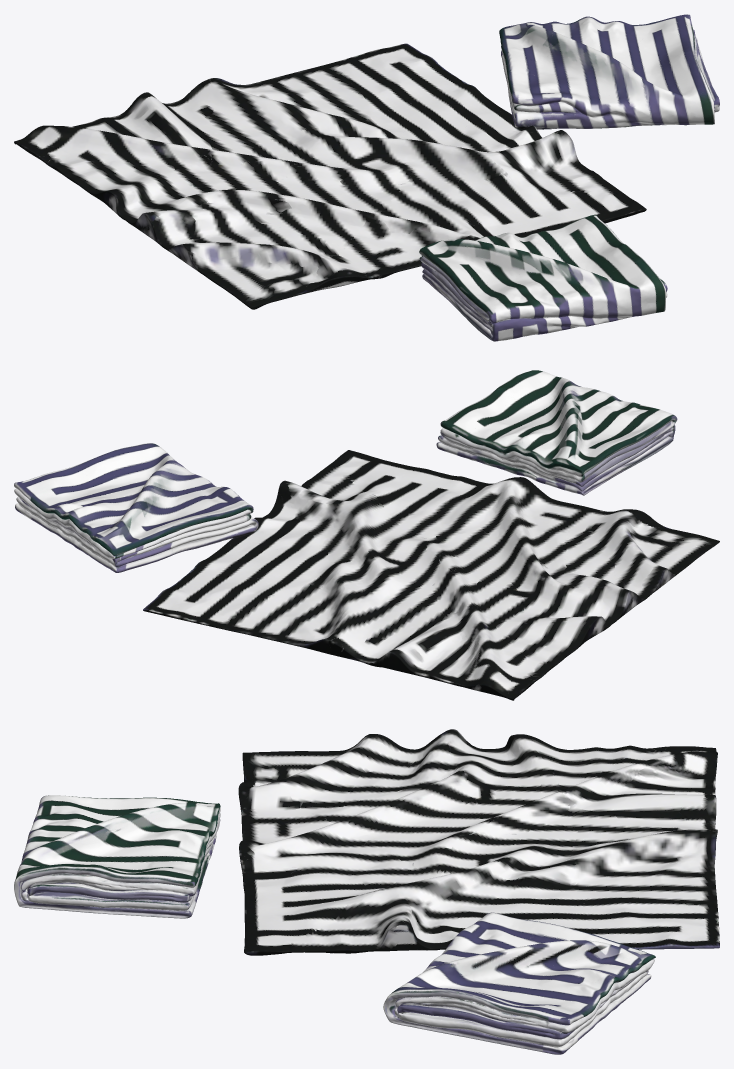
Rendered from 18-وشاح-السعودية.glb.
3 renders of one model, top to bottom at view 1: azimuth 30°, elevation 25°; view 2: azimuth 150°, elevation 25°; view 3: azimuth 270°, elevation 25°, orthographic. The views are drawn at different scales.
Size of the model in its own units: 1.9 by 0.1512 by 1.85.
Materials: 1 (1 with a texture image).
